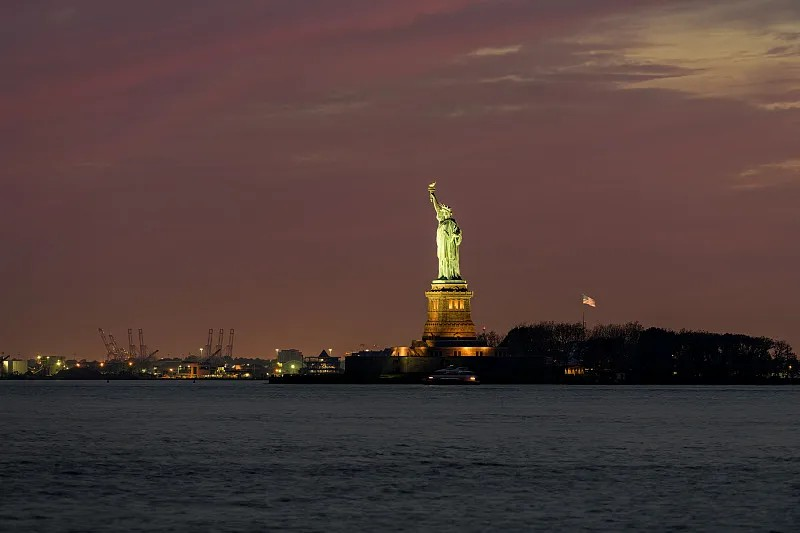SL: (422, 181, 475, 337)
